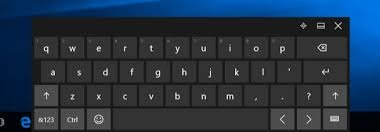keyboard: (35, 32, 347, 132)
